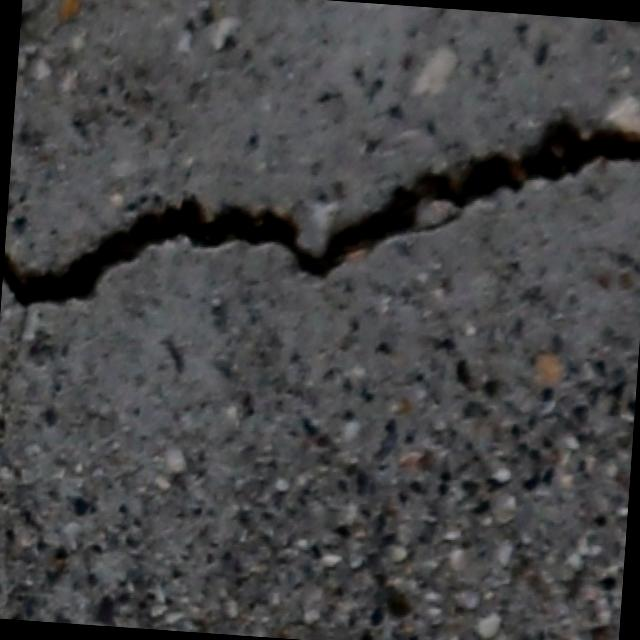crack: (1, 73, 640, 361)
